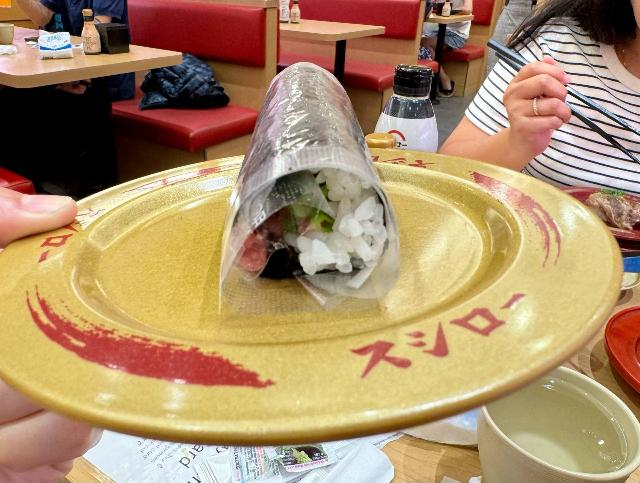jangold: (0, 226, 397, 436), (385, 145, 625, 403), (97, 164, 255, 226)
